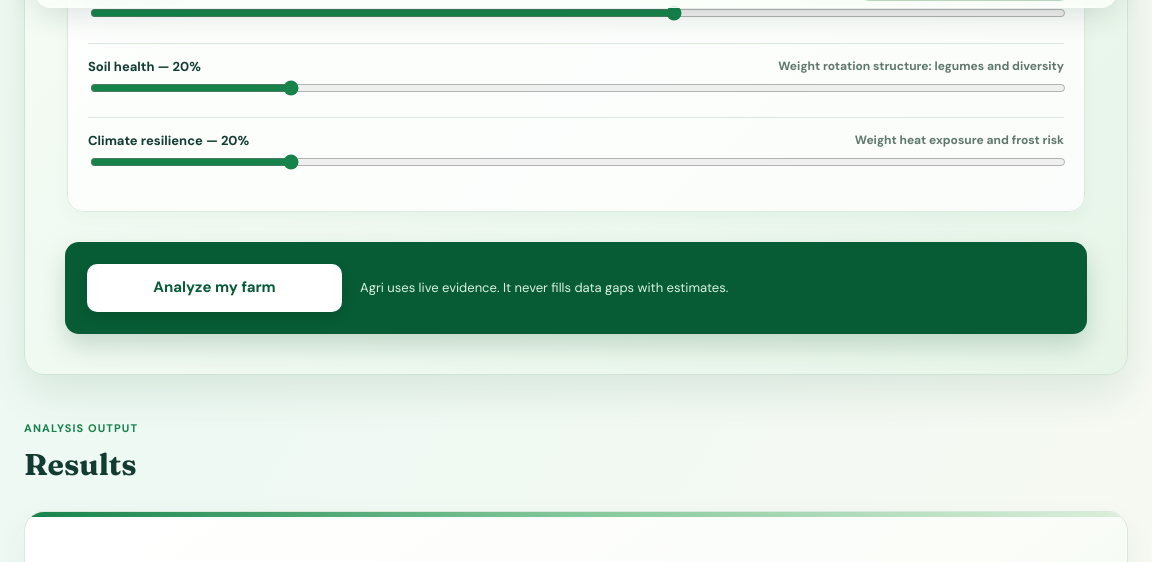
Test: Field Shift application › reports a failed comparison, keeps the farm profile and offers a retry
(page scrolled)
Click the button "Analyze my farm". click: (214, 288)
box: left=87, top=264, right=342, bottom=312
(page scrolled)
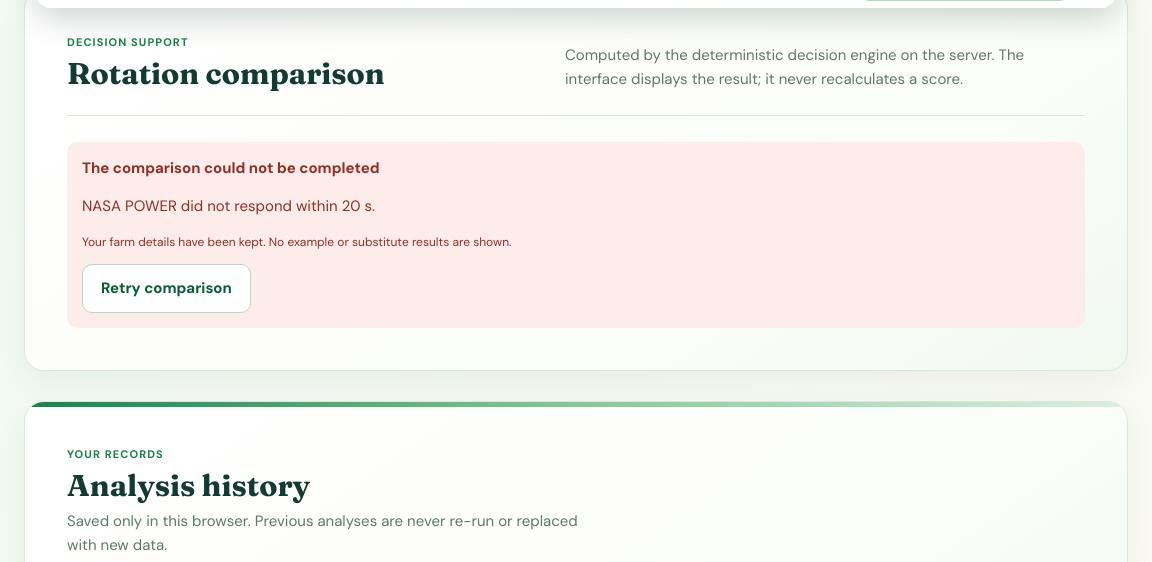
Expected: the text "87.1" is not shown
Expected: the text "The comparison could not be completed" is shown, left=82, top=158, right=380, bottom=178
Expected: the text "NASA POWER did not respond within 20 s." is shown, left=82, top=196, right=375, bottom=216
Click the button "Retry comparison". click: (166, 288)
box: left=82, top=264, right=251, bottom=313
(page scrolled)
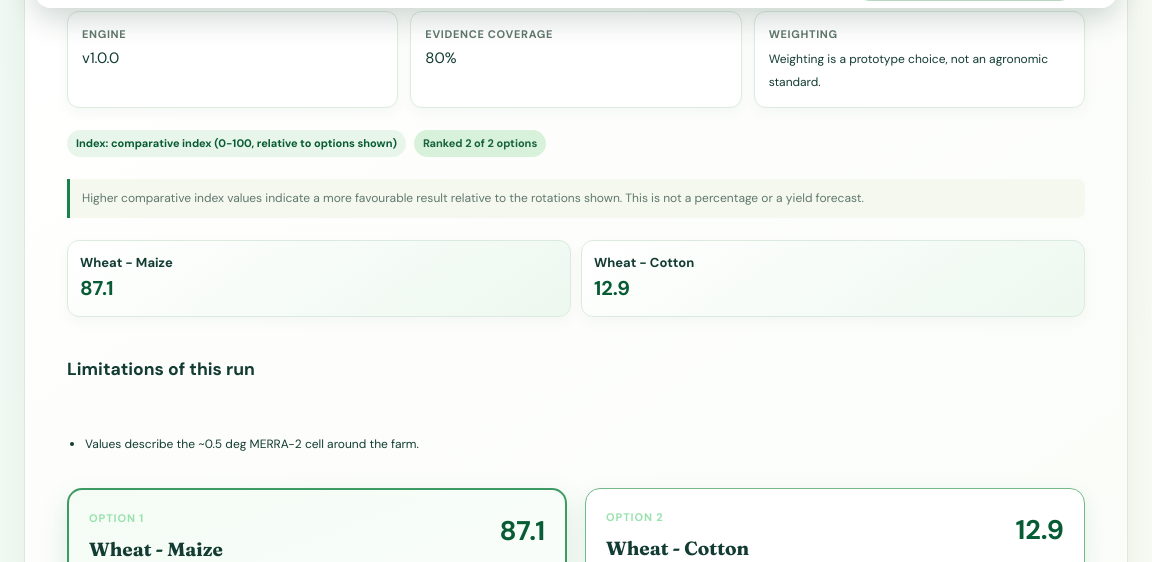
Expected: the 1st text "87.1" is shown, left=80, top=275, right=114, bottom=301
